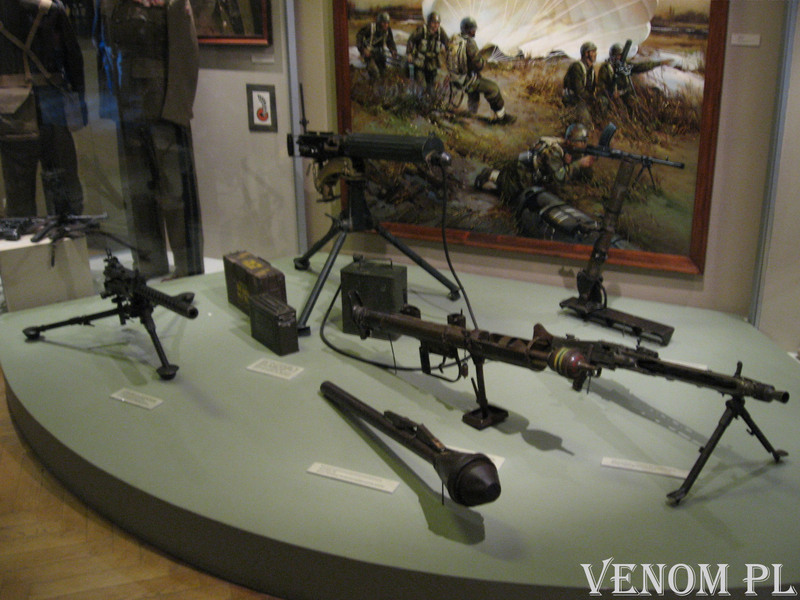rifle: (348, 295, 800, 425), (281, 114, 478, 218), (78, 251, 217, 358)
